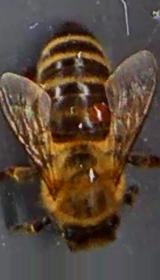varroa_mite: (80, 94, 111, 124)
